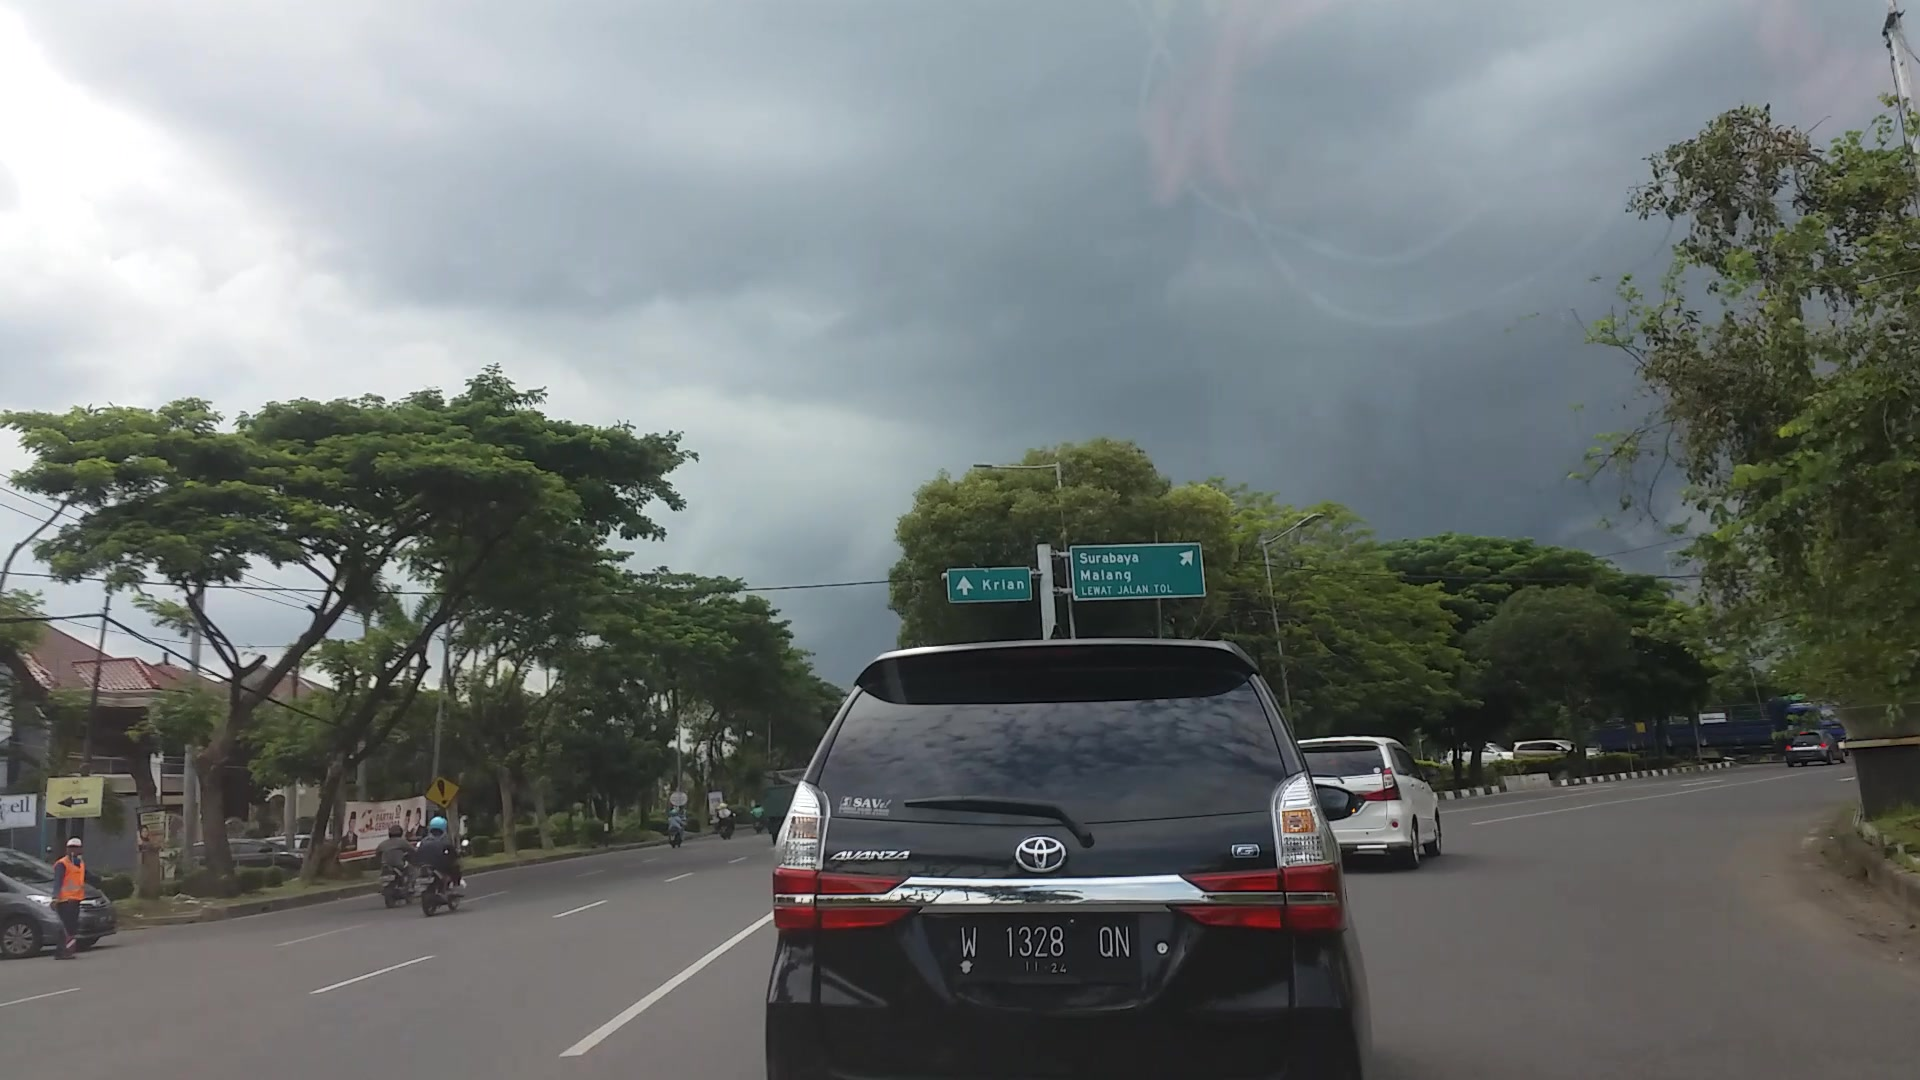plate_positive: (952, 916, 1138, 978)
